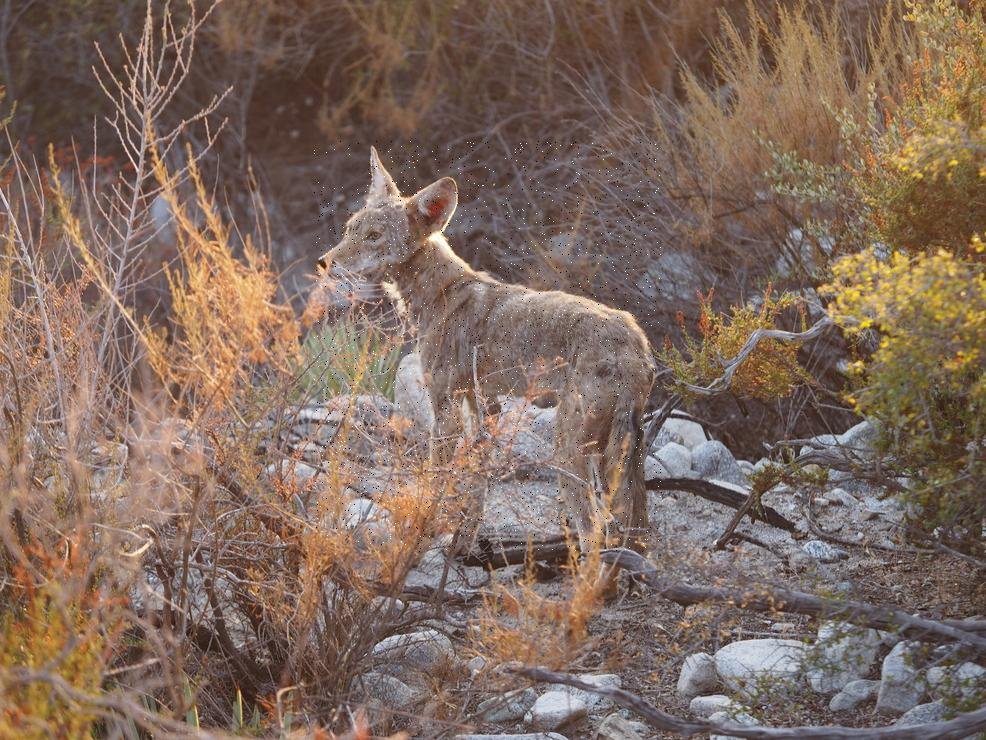Coyote: (313, 141, 661, 552)
